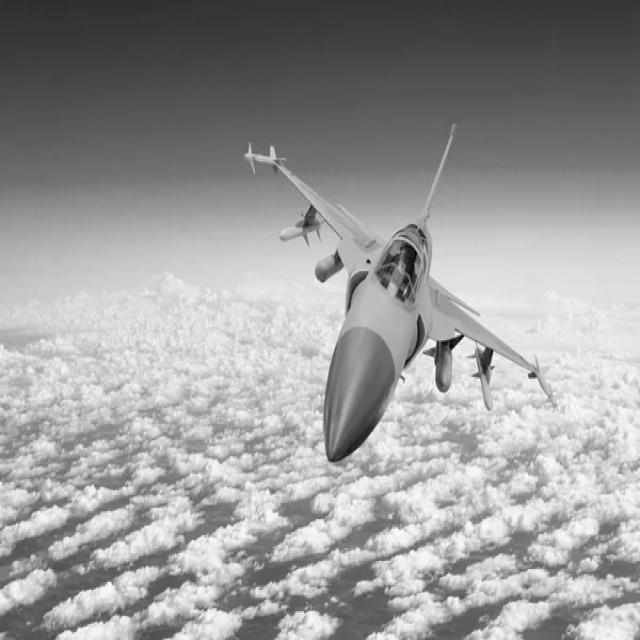Aircraft: (235, 114, 546, 464)
